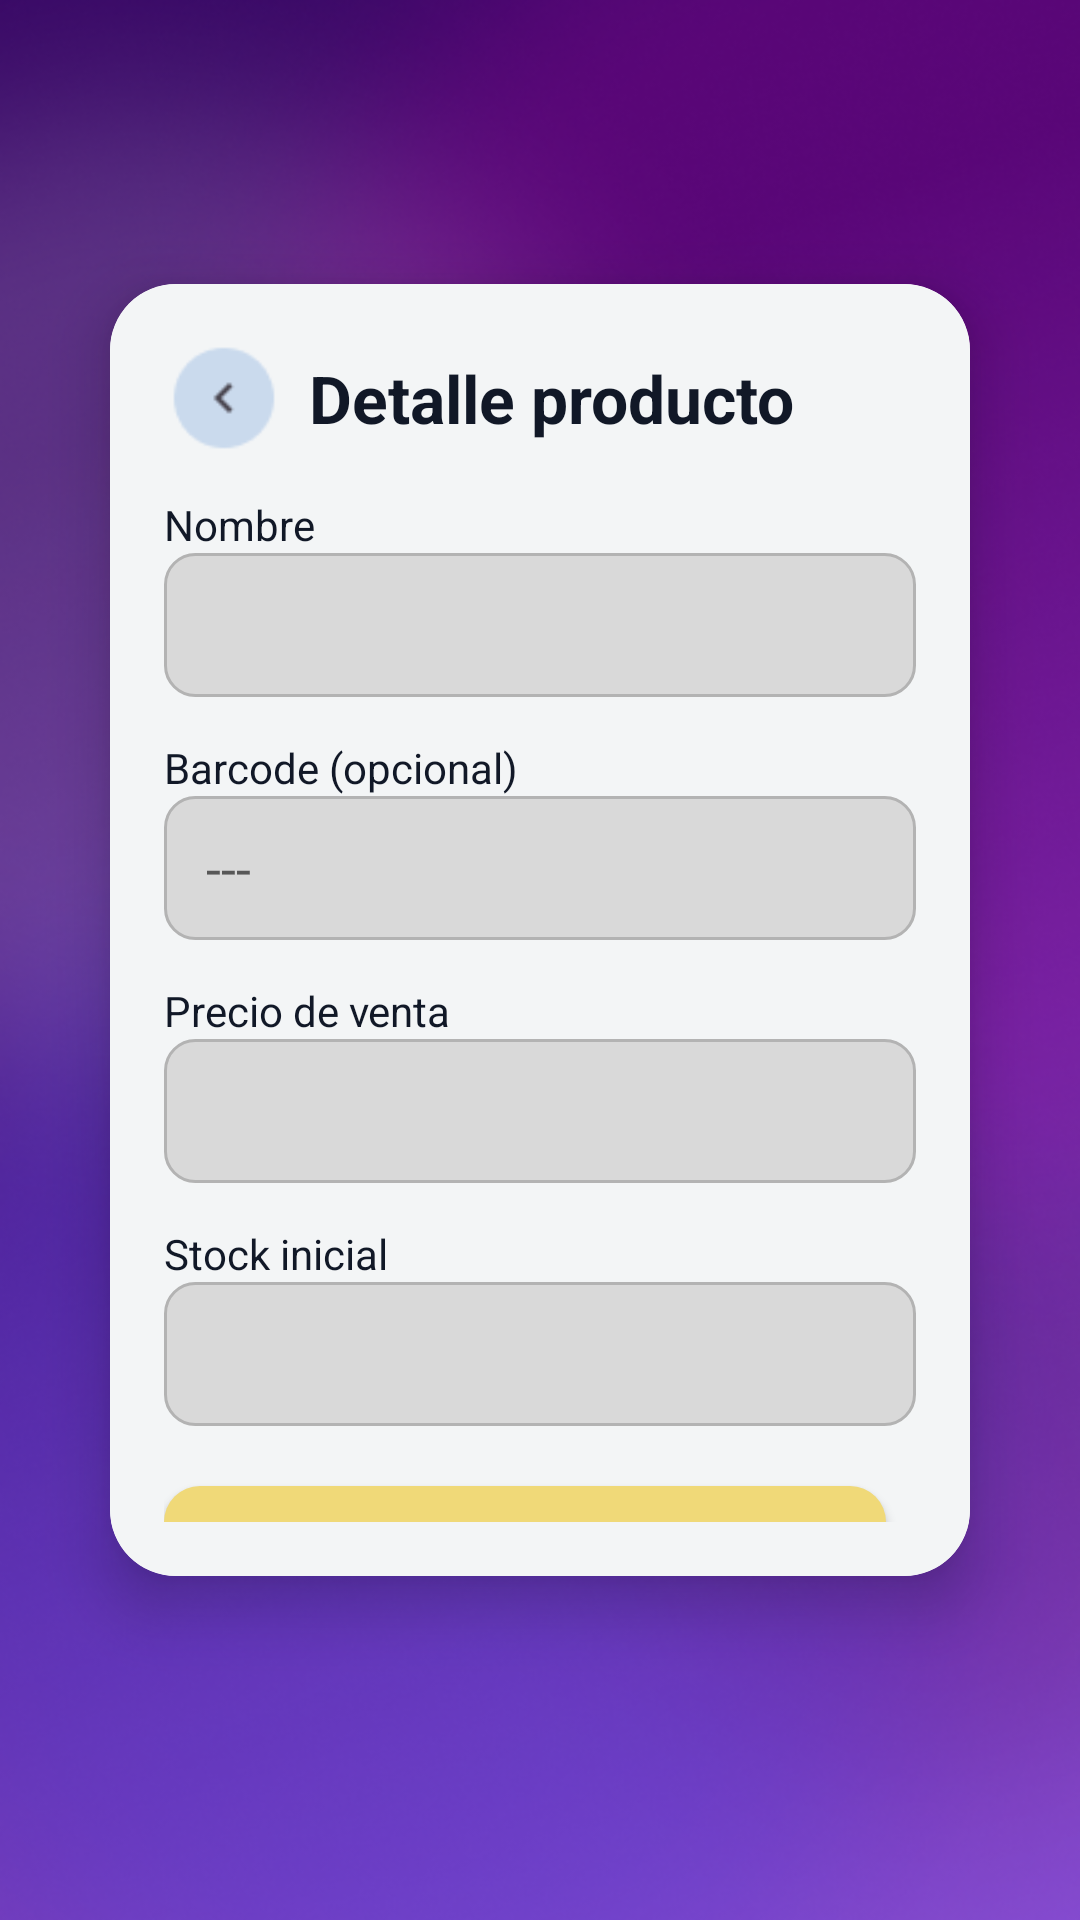

Named icons in this screenshot (1080×1920) and their centers, (x,y):
Volver: (224,398)
